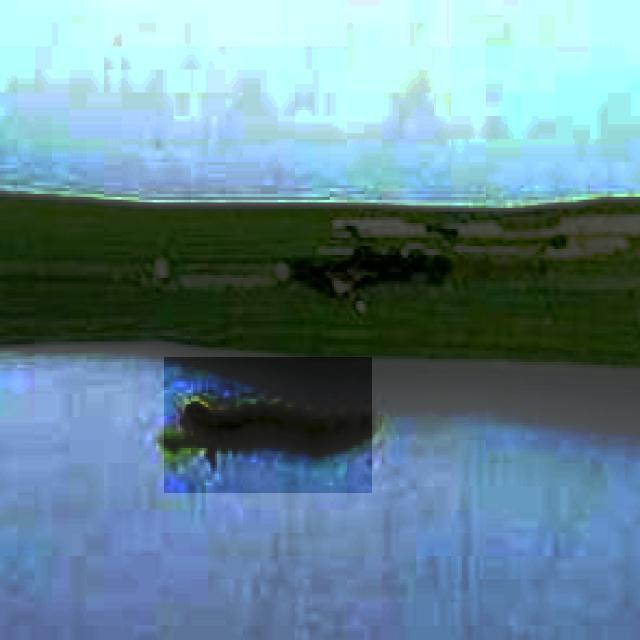leaf-folder: (164, 358, 372, 494)
